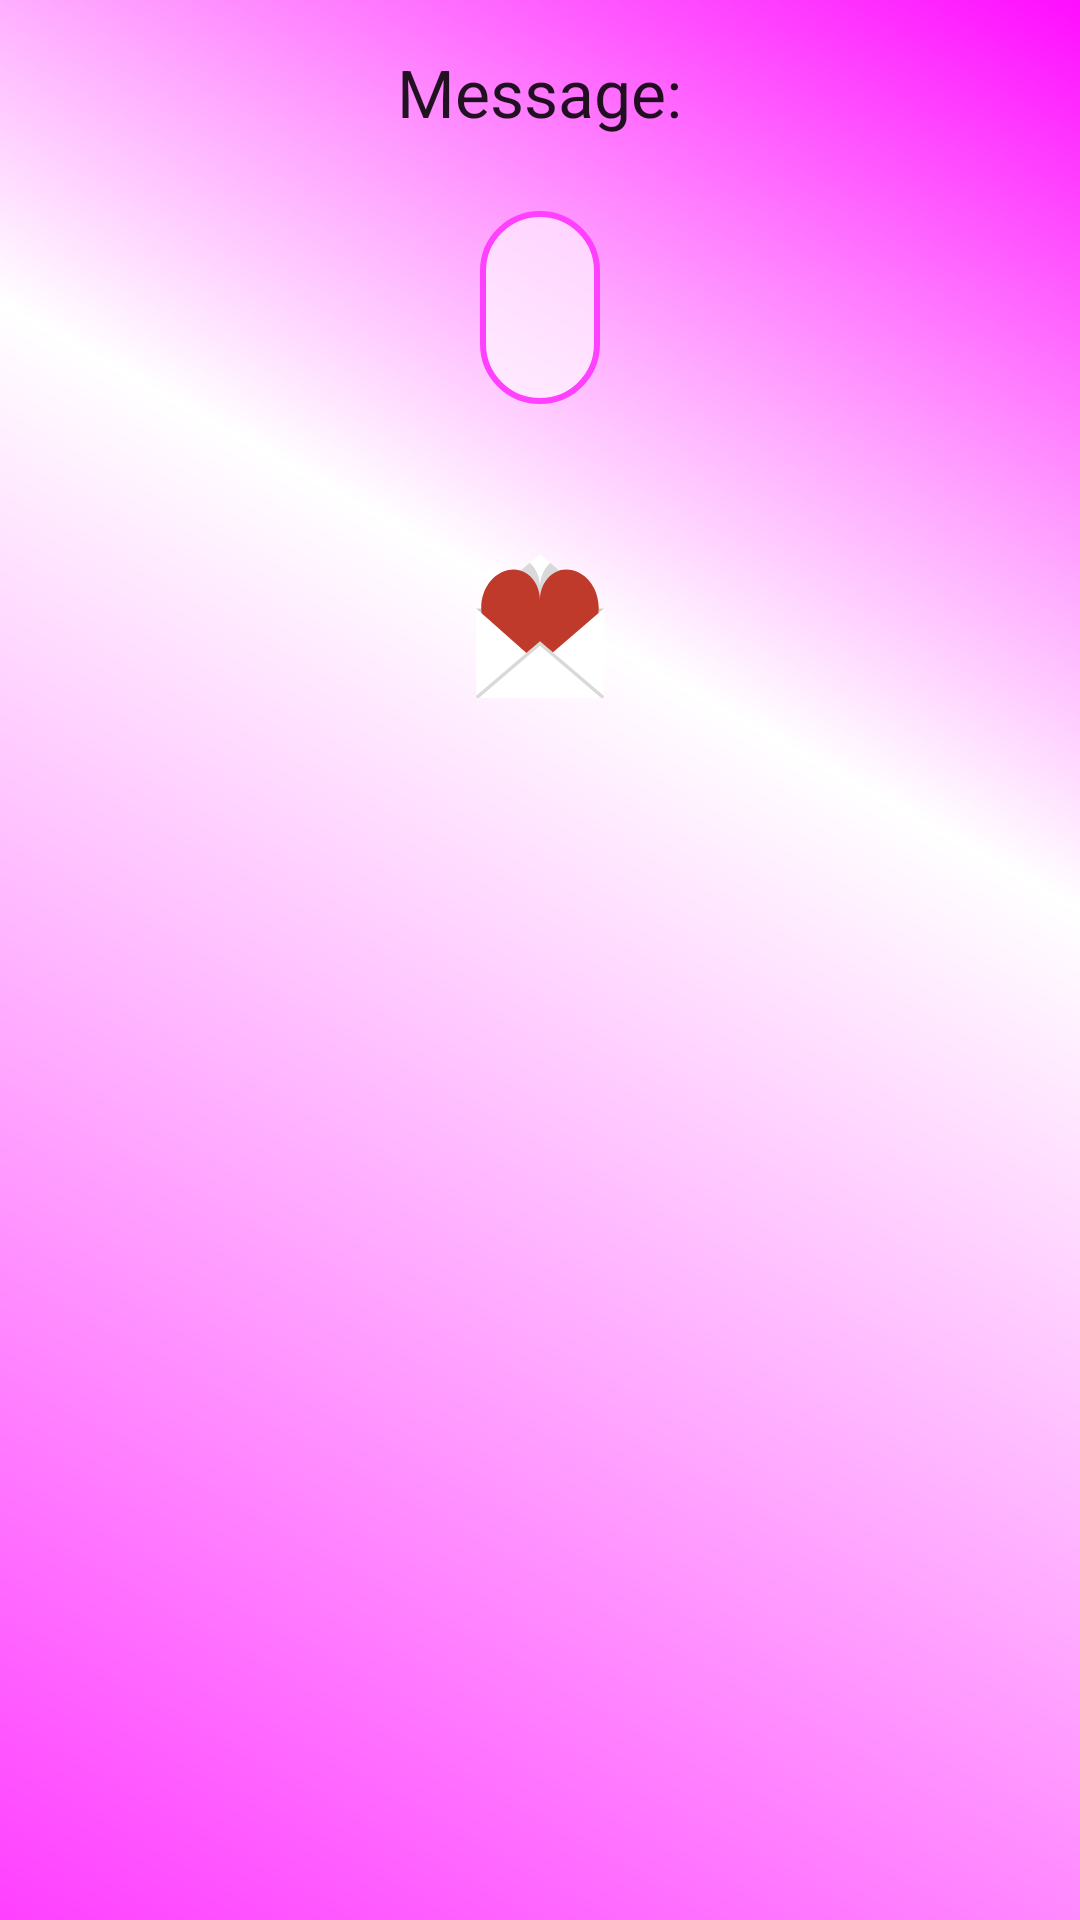

Named icons in this screenshot (1080 × 1920) and their centers, (x=x, y=y):
sms icon: (x=540, y=630)
